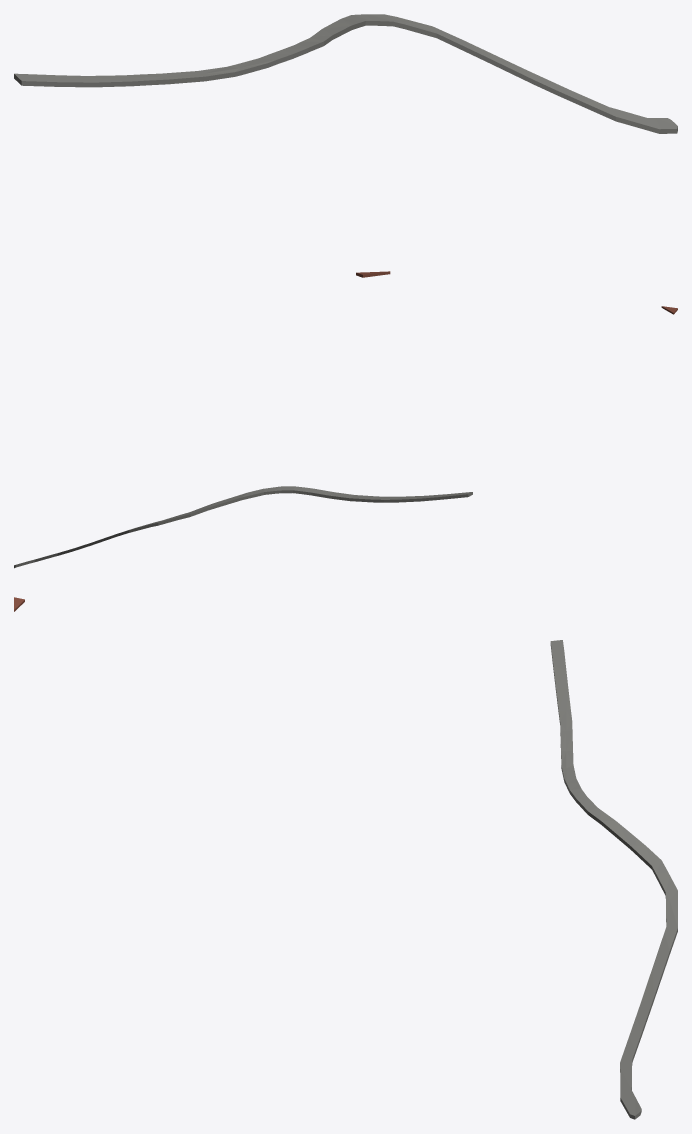
3 renders of one model, top to bottom at view 1: azimuth 30°, elevation 25°; view 2: azimuth 150°, elevation 25°; view 3: azimuth 270°, elevation 25°, orthographic. The views are drawn at different scales.
Size of the model in its own units: 187 by 80.06 by 193.
